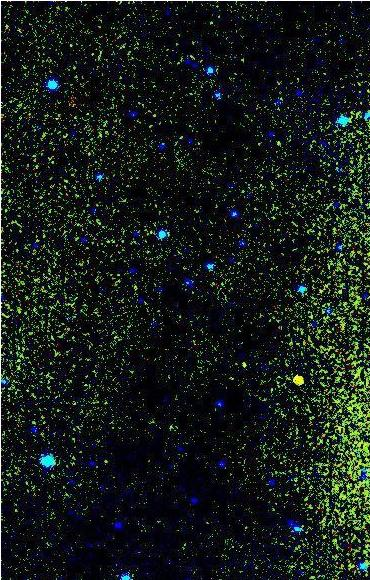star: (230, 352, 260, 382)
